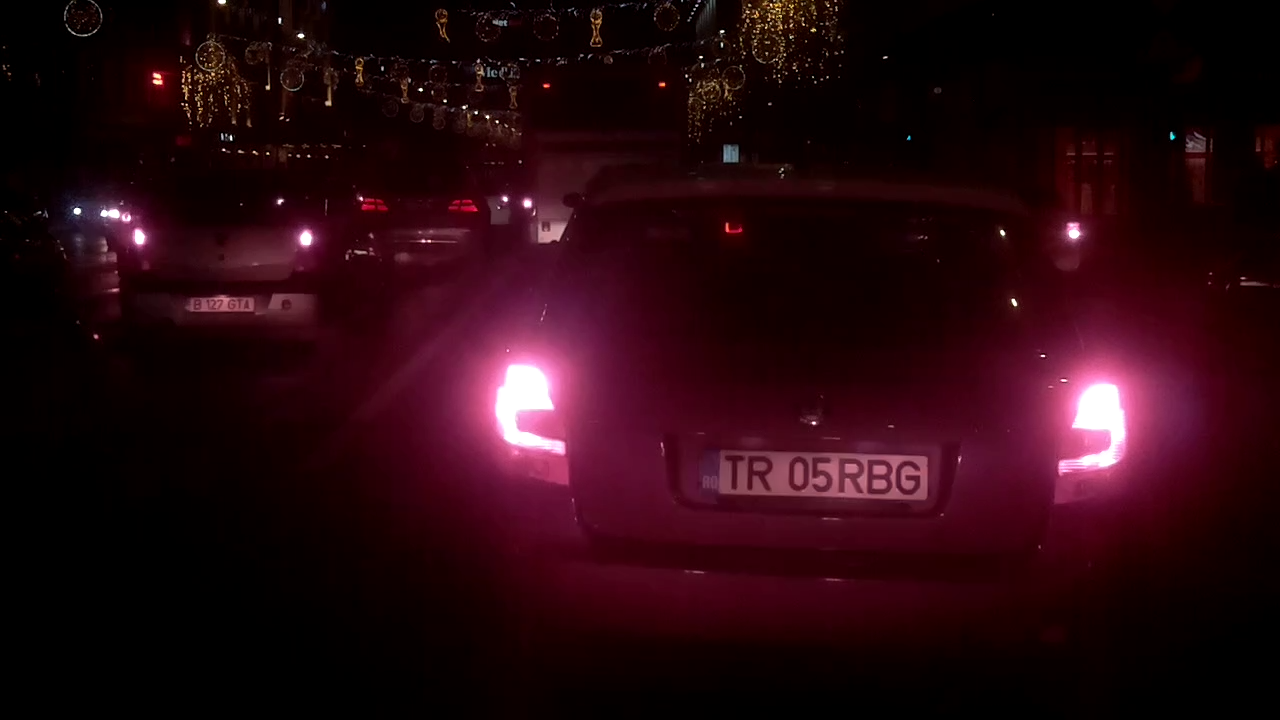license-plate: (692, 437, 936, 510), (180, 292, 257, 314)
